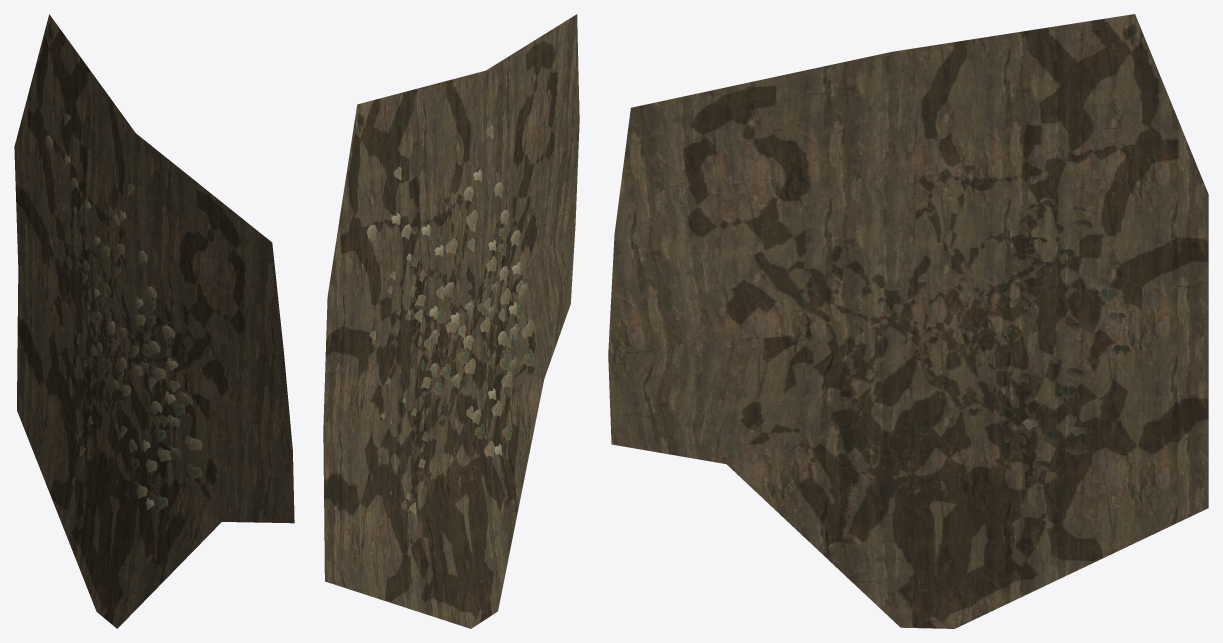
The model's file is SM_Ivy_1.fbx.
3 views of the same model, side by side, from view 1: azimuth 30°, elevation 25°; view 2: azimuth 150°, elevation 25°; view 3: azimuth 270°, elevation 25° (orthographic). The views are drawn at different scales.
Parts seen in each view (by area): view 1: SM_Ivy_1_LOD0; view 2: SM_Ivy_1_LOD0; view 3: SM_Ivy_1_LOD0.
Part boxes in pixels (<box>): SM_Ivy_1_LOD0: <box>14,14,294,628</box>; SM_Ivy_1_LOD0: <box>323,14,579,628</box>; SM_Ivy_1_LOD0: <box>608,14,1208,628</box>.
Bounding box in the file's own units: 37.92 × 304 × 353.
